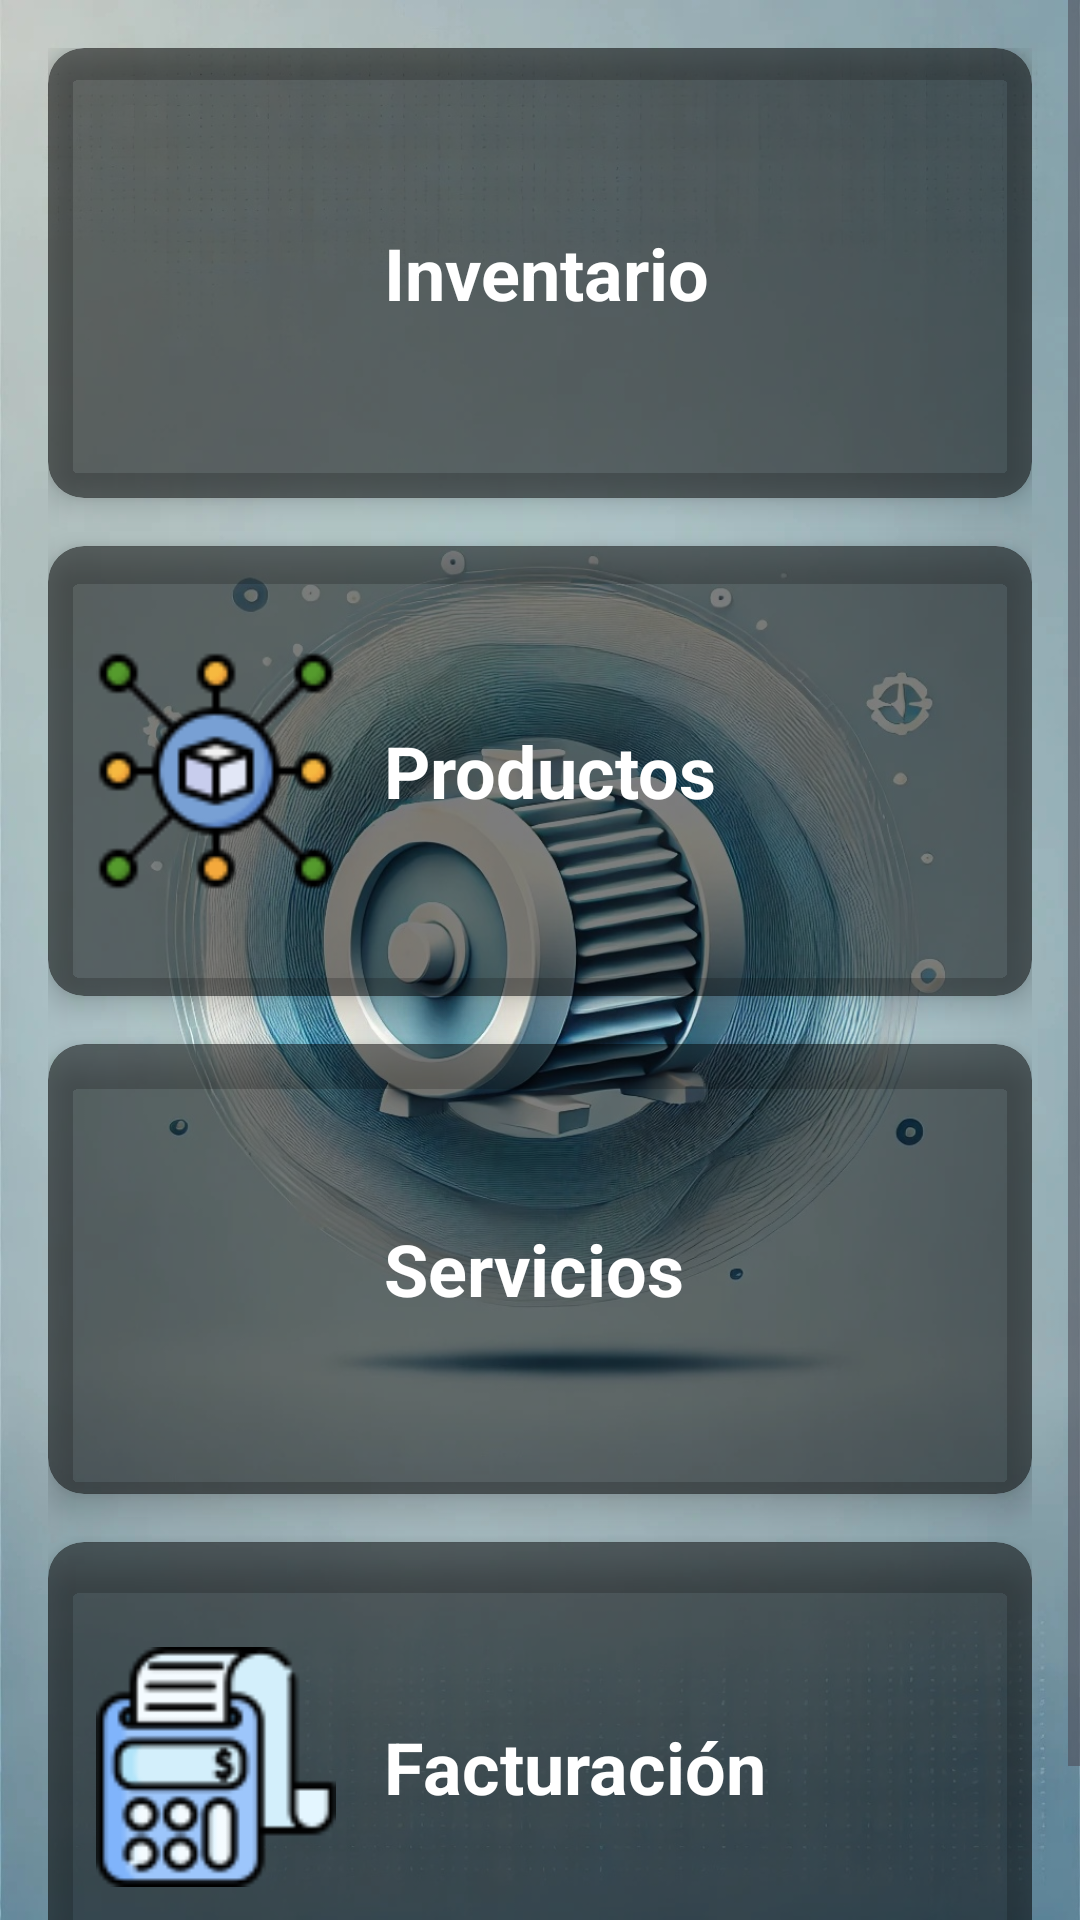

Icon click points for this 1080 x 1920 phone screenshot, format [x,y]:
cuenta: [216,1767]
